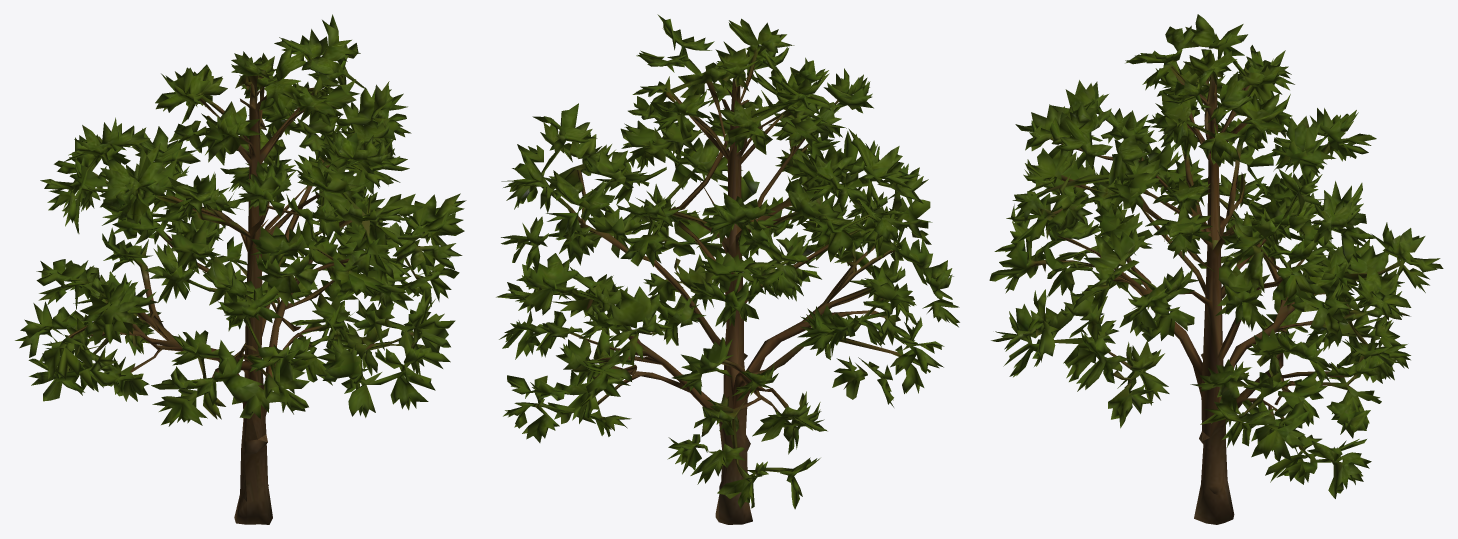
File: green.glb
3 views of the same model, side by side, from view 1: azimuth 30°, elevation 25°; view 2: azimuth 150°, elevation 25°; view 3: azimuth 270°, elevation 25° (orthographic).
Parts seen in each view (by area): view 1: tripo_node_e6265c45; view 2: tripo_node_e6265c45; view 3: tripo_node_e6265c45.
Boxes of the visible parts, x1=… form: tripo_node_e6265c45: x1=15, y1=14, x2=466, y2=524; tripo_node_e6265c45: x1=496, y1=14, x2=959, y2=524; tripo_node_e6265c45: x1=989, y1=14, x2=1443, y2=524.
Size of the model in its own units: 0.9593 by 1 by 0.8492.
Materials: 1 (1 with a texture image).
